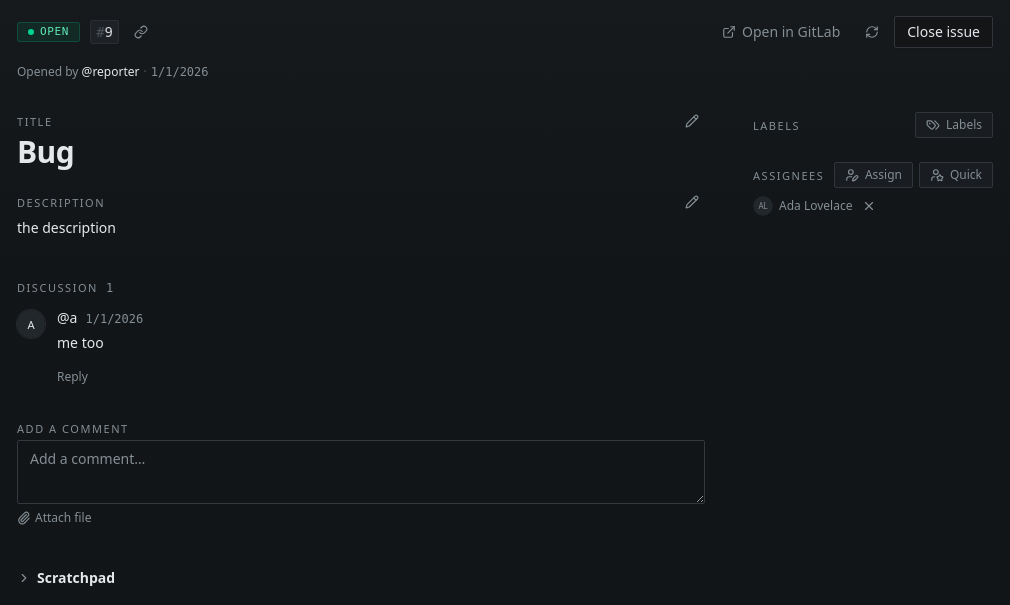
IssueDetail (buffered) › reveals the title input when its Edit toggle is clicked
Click the button with test id "edit-title-toggle". click: point(692, 121)
box: [679,112,705,130]
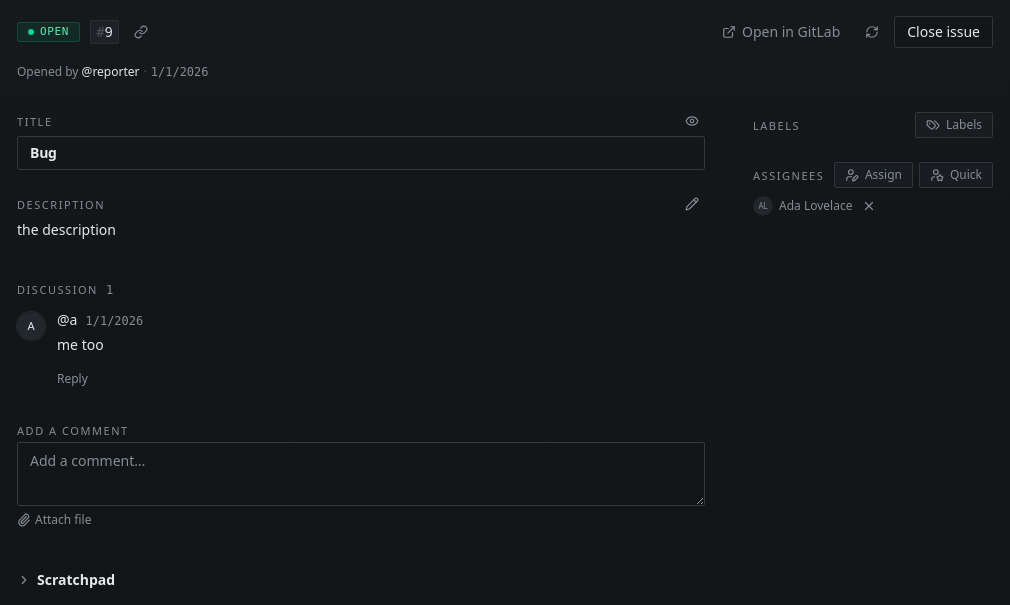
Expected: the field with test id "edit-title" holds "Bug", [17,136,705,170]
